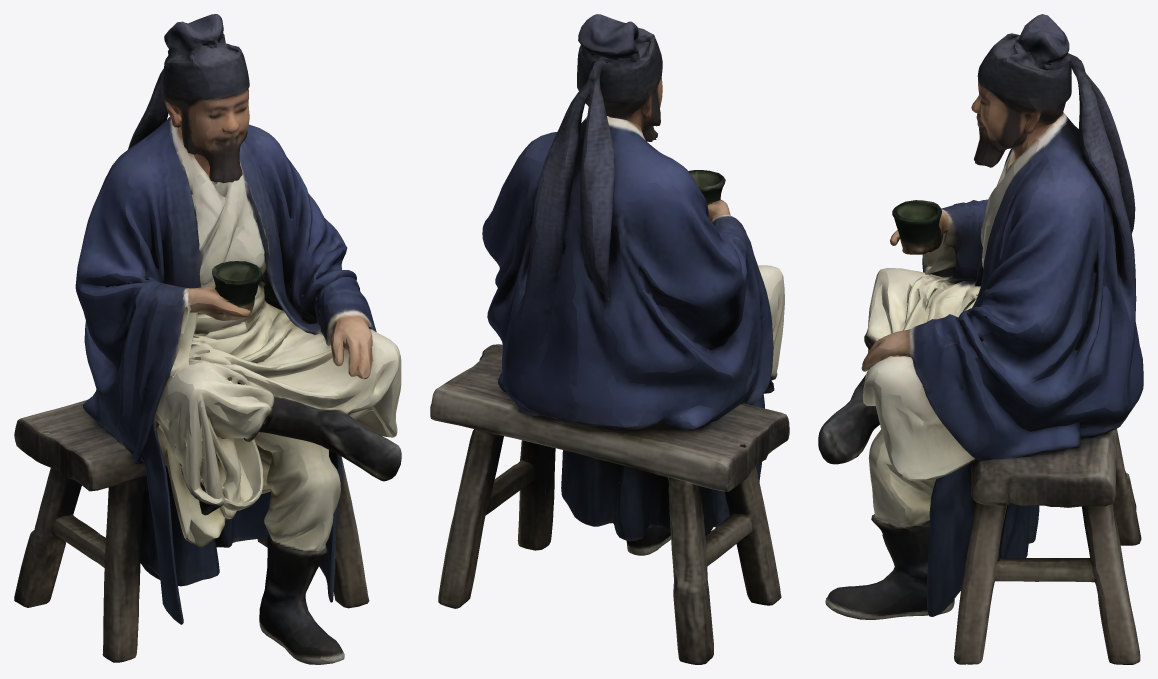
The model's file is tavern_patron.glb.
The picture shows the model from 3 angles, left to right: view 1: azimuth 30°, elevation 25°; view 2: azimuth 150°, elevation 25°; view 3: azimuth 270°, elevation 25°; orthographic projection.
Parts seen in each view (by area): view 1: geometry_0; view 2: geometry_0; view 3: geometry_0.
Boxes of the visible parts, x1,y1,x2,y2 form: geometry_0: [14, 14, 401, 664]; geometry_0: [430, 14, 789, 664]; geometry_0: [818, 14, 1143, 664].
Size of the model in its own units: 0.5193 by 0.95 by 0.4828.
1 material, 1 textured.
